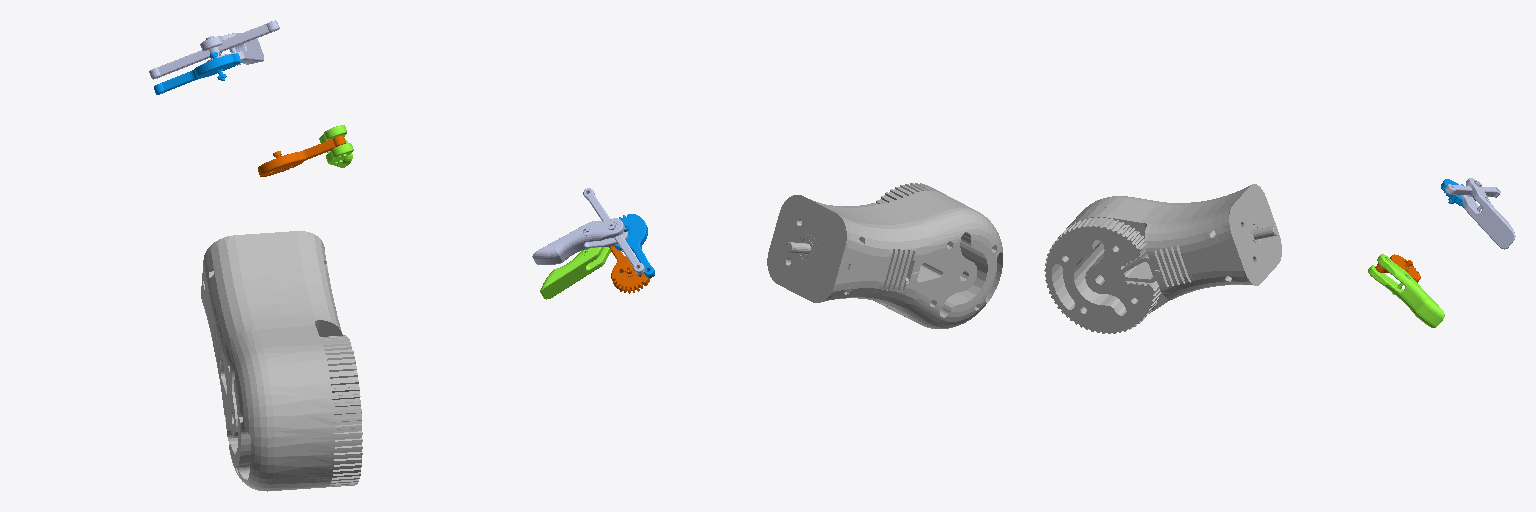
The robot description file, URDF, robot "moveo_urdf_5":
<robot
  name="moveo_urdf_5">
    <link
    name="base_link">
    <inertial>
      <origin
        xyz="0.034155 -0.20591 -0.049641"
        rpy="0 0 0" />
      <mass
        value="8.0643" />
      <inertia
        ixx="0.11291"
        ixy="0.00066071"
        ixz="-0.00030472"
        iyy="0.089946"
        iyz="0.011461"
        izz="0.19187" />
    </inertial>
    <visual>
      <origin
        xyz="0 0 0"
        rpy="0 0 0" />
      <geometry>
        <mesh
          filename="package://moveo_urdf_4/meshes/base_link.STL" />
      </geometry>
      <material
        name="">
        <color
          rgba="0.75294 0.75294 0.75294 1" />
      </material>
    </visual>
    <collision>
      <origin
        xyz="0 0 0"
        rpy="0 0 0" />
      <geometry>
        <mesh
          filename="package://moveo_urdf_4/meshes/base_link.STL" />
      </geometry>
    </collision>
  </link>
  <link
    name="Link_1">
    <inertial>
      <origin
        xyz="4.0186E-05 0.090634 0.00010221"
        rpy="0 0 0" />
      <mass
        value="4.2526" />
      <inertia
        ixx="0.0034071"
        ixy="8.9041E-06"
        ixz="1.179E-07"
        iyy="0.018642"
        iyz="-3.6544E-06"
        izz="0.021987" />
    </inertial>
    <visual>
      <origin
        xyz="0 0 0"
        rpy="0 0 0" />
      <geometry>
        <mesh
          filename="package://moveo_urdf_4/meshes/Link_1.STL" />
      </geometry>
      <material
        name="">
        <color
          rgba="0.75294 0.75294 0.75294 1" />
      </material>
    </visual>
    <collision>
      <origin
        xyz="0 0 0"
        rpy="0 0 0" />
      <geometry>
        <mesh
          filename="package://moveo_urdf_4/meshes/Link_1.STL" />
      </geometry>
    </collision>
  </link>
  <joint
    name="Joint_1"
    type="revolute">
    <origin
      xyz="0 -0.2425 0"
      rpy="1.5708 9.5417E-17 2.7766" />
    <parent
      link="base_link" />
    <child
      link="Link_1" />
    <axis
      xyz="0 1 0" />
    <limit
      lower="-1"
      upper="1"
      effort="5"
      velocity="1" />
  </joint>
  <link
    name="Link_2">
    <inertial>
      <origin
        xyz="2.2815E-05 0.0017616 -0.080002"
        rpy="0 0 0" />
      <mass
        value="1.9323" />
      <inertia
        ixx="0.012138"
        ixy="-3.5576E-06"
        ixz="-9.0632E-06"
        iyy="0.011445"
        iyz="0.00014273"
        izz="0.00070271" />
    </inertial>
    <visual>
      <origin
        xyz="0 0 0"
        rpy="0 0 0" />
      <geometry>
        <mesh
          filename="package://moveo_urdf_5/meshes/Link_2.STL" />
      </geometry>
      <material
        name="">
        <color
          rgba="0.75294 0.75294 0.75294 1" />
      </material>
    </visual>
    <collision>
      <origin
        xyz="0 0 0"
        rpy="0 0 0" />
      <geometry>
        <mesh
          filename="package://moveo_urdf_5/meshes/Link_2.STL" />
      </geometry>
    </collision>
  </link>
  <joint
    name="Joint_2"
    type="revolute">
    <origin
      xyz="0 0.18264 0"
      rpy="-3.1416 0.95134 1.5708" />
    <parent
      link="Link_1" />
    <child
      link="Link_2" />
    <axis
      xyz="0 -1 0" />
    <limit
      lower="-1"
      upper="1"
      effort="5"
      velocity="1" />
  </joint>
  <link
    name="Link_3">
    <inertial>
      <origin
        xyz="0.05095 -0.00039084 -0.00045591"
        rpy="0 0 0" />
      <mass
        value="1.1381" />
      <inertia
        ixx="0.00023572"
        ixy="-3.8425E-06"
        ixz="4.1286E-06"
        iyy="0.00029123"
        iyz="-1.0387E-07"
        izz="0.00052457" />
    </inertial>
    <visual>
      <origin
        xyz="0 0 0"
        rpy="0 0 0" />
      <geometry>
        <mesh
          filename="package://moveo_urdf_5/meshes/Link_3.STL" />
      </geometry>
      <material
        name="">
        <color
          rgba="0.75294 0.75294 0.75294 1" />
      </material>
    </visual>
    <collision>
      <origin
        xyz="0 0 0"
        rpy="0 0 0" />
      <geometry>
        <mesh
          filename="package://moveo_urdf_5/meshes/Link_3.STL" />
      </geometry>
    </collision>
  </link>
  <joint
    name="Joint_3"
    type="revolute">
    <origin
      xyz="0 0 -0.22112"
      rpy="-3.1416 0.98126 -3.1416" />
    <parent
      link="Link_2" />
    <child
      link="Link_3" />
    <axis
      xyz="0 -1 0" />
    <limit
      lower="-1"
      upper="1"
      effort="5"
      velocity="1" />
  </joint>
  <link
    name="Link_4">
    <inertial>
      <origin
        xyz="-0.0027417 0.0025097 0.012864"
        rpy="0 0 0" />
      <mass
        value="0.62964" />
      <inertia
        ixx="0.0001717"
        ixy="1.3446E-06"
        ixz="8.5164E-06"
        iyy="0.00010506"
        iyz="5.1412E-05"
        izz="7.8944E-05" />
    </inertial>
    <visual>
      <origin
        xyz="0 0 0"
        rpy="0 0 0" />
      <geometry>
        <mesh
          filename="package://moveo_urdf_5/meshes/Link_4.STL" />
      </geometry>
      <material
        name="">
        <color
          rgba="0.29412 0.29412 0.29412 1" />
      </material>
    </visual>
    <collision>
      <origin
        xyz="0 0 0"
        rpy="0 0 0" />
      <geometry>
        <mesh
          filename="package://moveo_urdf_5/meshes/Link_4.STL" />
      </geometry>
    </collision>
  </link>
  <joint
    name="Joint_4"
    type="revolute">
    <origin
      xyz="0.16988 -0.00099213 0"
      rpy="3.1416 -1.2279 1.5708" />
    <parent
      link="Link_3" />
    <child
      link="Link_4" />
    <axis
      xyz="0.010353 -0.99993 -0.0059382" />
    <limit
      lower="-1"
      upper="1"
      effort="5"
      velocity="1" />
  </joint>
  <link
    name="Link_5">
    <inertial>
      <origin
        xyz="-0.011366 0.00012239 0.0078967"
        rpy="0 0 0" />
      <mass
        value="0.19875" />
      <inertia
        ixx="6.2676E-05"
        ixy="4.2551E-06"
        ixz="4.0215E-05"
        iyy="9.7792E-05"
        iyz="8.5888E-07"
        izz="9.5807E-05" />
    </inertial>
    <visual>
      <origin
        xyz="0 0 0"
        rpy="0 0 0" />
      <geometry>
        <mesh
          filename="package://moveo_urdf_5/meshes/Link_5.STL" />
      </geometry>
      <material
        name="">
        <color
          rgba="0.79216 0.81961 0.93333 1" />
      </material>
    </visual>
    <collision>
      <origin
        xyz="0 0 0"
        rpy="0 0 0" />
      <geometry>
        <mesh
          filename="package://moveo_urdf_5/meshes/Link_5.STL" />
      </geometry>
    </collision>
  </link>
  <joint
    name="Joint_5"
    type="revolute">
    <origin
      xyz="-0.0021346 0.053041 0.0016936"
      rpy="-1.5639 -0.091135 -0.00062919" />
    <parent
      link="Link_4" />
    <child
      link="Link_5" />
    <axis
      xyz="0 1 0" />
    <limit
      lower="-1"
      upper="1"
      effort="5"
      velocity="1" />
  </joint>
    <link
    name="Gripper_Servo_Gear">
    <inertial>
      <origin
        xyz="-0.0063957 -0.0033021 -0.00082714"
        rpy="0 0 0" />
      <mass
        value="0.0048997" />
      <inertia
        ixx="2.0097E-09"
        ixy="-3.0673E-09"
        ixz="-6.3297E-10"
        iyy="4.9761E-09"
        iyz="-3.9668E-10"
        izz="6.8221E-09" />
    </inertial>
    <visual>
      <origin
        xyz="0 0 0"
        rpy="0 0 0" />
      <geometry>
        <mesh
          filename="package://moveo_urdf_5/meshes/Gripper_Servo_Gear.STL" />
      </geometry>
      <material
        name="">
        <color
          rgba="0.9098 0.44314 0.031373 1" />
      </material>
    </visual>
    <collision>
      <origin
        xyz="0 0 0"
        rpy="0 0 0" />
      <geometry>
        <mesh
          filename="package://moveo_urdf_5/meshes/Gripper_Servo_Gear.STL" />
      </geometry>
    </collision>
  </link>
  <joint
    name="Gripper_Servo_Gear_Joint"
    type="revolute">
    <origin
      xyz="-0.05013 0.01413 0.041516"
      rpy="0.9321 0.032705 -1.5268" />
    <parent
      link="Link_5" />
    <child
      link="Gripper_Servo_Gear" />
    <axis
      xyz="0 1 0" />
    <limit
      lower="0"
      upper="1.5707"
      effort="5"
      velocity="1" />
  </joint>
  <link
    name="Tip_Gripper_Servo">
    <inertial>
      <origin
        xyz="0.028047 -0.000564 0.0049632"
        rpy="0 0 0" />
      <mass
        value="0.010676" />
      <inertia
        ixx="8.9609E-09"
        ixy="6.3808E-09"
        ixz="-2.6788E-08"
        iyy="1.7457E-07"
        iyz="7.7239E-10"
        izz="1.7361E-07" />
    </inertial>
    <visual>
      <origin
        xyz="0 0 0"
        rpy="0 0 0" />
      <geometry>
        <mesh
          filename="package://moveo_urdf_5/meshes/Tip_Gripper_Servo.STL" />
      </geometry>
      <material
        name="">
        <color
          rgba="0.6 1 0.27843 1" />
      </material>
    </visual>
    <collision>
      <origin
        xyz="0 0 0"
        rpy="0 0 0" />
      <geometry>
        <mesh
          filename="package://moveo_urdf_5/meshes/Tip_Gripper_Servo.STL" />
      </geometry>
    </collision>
  </link>
  <joint
    name="Tip_Gripper_Servo_Joint"
    type="revolute">
    <origin
      xyz="-0.039906 -0.004 -0.0027473"
      rpy="-3.1416 -1.5569 -2.0392E-12" />
    <parent
      link="Gripper_Servo_Gear" />
    <child
      link="Tip_Gripper_Servo" />
    <axis
      xyz="0 1 0" />
    <limit
      lower="0"
      upper="1.3"
      effort="5"
      velocity="1" /> 
  </joint>
  <link
    name="Gripper_Idol_Gear">
    <inertial>
      <origin
        xyz="-0.020173 -0.027941 -0.043405"
        rpy="0 0 0" />
      <mass
        value="0.0051273" />
      <inertia
        ixx="2.3661E-09"
        ixy="1.1076E-09"
        ixz="5.5775E-10"
        iyy="8.8855E-09"
        iyz="-6.98E-11"
        izz="1.1181E-08" />
    </inertial>
    <visual>
      <origin
        xyz="0 0 0"
        rpy="0 0 0" />
      <geometry>
        <mesh
          filename="package://moveo_urdf_4/meshes/Gripper_Idol_Gear.STL" />
      </geometry>
      <material
        name="">
        <color
          rgba="0.058824 0.64706 1 1" />
      </material>
    </visual>
    <collision>
      <origin
        xyz="0 0 0"
        rpy="0 0 0" />
      <geometry>
        <mesh
          filename="package://moveo_urdf_4/meshes/Gripper_Idol_Gear.STL" />
      </geometry>
    </collision>
  </link>
  <joint
    name="Gripper_Idol_Gear_Joint"
    type="revolute">
    <origin
      xyz="0 0 0.088169"
      rpy="2.2206 -1.7526E-12 1.5708" />
    <parent
      link="Link_5" />
    <child
      link="Gripper_Idol_Gear" />
    <axis
      xyz="0 1 0" />
    <limit
      lower="-1"
      upper="1"
      effort="5"
      velocity="1" />
  </joint>
  <link
    name="Tip_Gripper_Idol">
    <inertial>
      <origin
        xyz="0.07316 -0.036799 0.032473"
        rpy="0 0 0" />
      <mass
        value="0.010676" />
      <inertia
        ixx="1.6298E-07"
        ixy="-2.1098E-09"
        ixz="-4.8536E-08"
        iyy="1.7457E-07"
        iyz="-6.0724E-09"
        izz="1.9597E-08" />
    </inertial>
    <visual>
      <origin
        xyz="0 0 0"
        rpy="0 0 0" />
      <geometry>
        <mesh
          filename="package://moveo_urdf_4/meshes/Tip_Gripper_Idol.STL" />
      </geometry>
      <material
        name="">
        <color
          rgba="0.79216 0.81961 0.93333 1" />
      </material>
    </visual>
    <collision>
      <origin
        xyz="0 0 0"
        rpy="0 0 0" />
      <geometry>
        <mesh
          filename="package://moveo_urdf_4/meshes/Tip_Gripper_Idol.STL" />
      </geometry>
    </collision>
  </link>
  <joint
    name="Tip_Gripper_Idol_Joint"
    type="fixed">
    <origin
      xyz="0 0.0088579 -0.0067312"
      rpy="-3.1416 0.5236 -3.1416" />
    <parent
      link="Gripper_Idol_Gear" />
    <child
      link="Tip_Gripper_Idol" />
    <axis
      xyz="0 0 0" />
  </joint>
  <link
    name="Pivot_Arm_Gripper_Servo">
    <inertial>
      <origin
        xyz="-0.0246088378758516 -0.039491188677419 0.0548184657290344"
        rpy="0 0 0" />
      <mass
        value="0.00185970821819588" />
      <inertia
        ixx="2.3350521316943E-09"
        ixy="3.15938078443685E-09"
        ixz="-1.08844692176622E-09"
        iyy="7.82558758772591E-08"
        iyz="4.39516056818752E-11"
        izz="8.05606441237718E-08" />
    </inertial>
    <visual>
      <origin
        xyz="0 0 0"
        rpy="0 0 0" />
      <geometry>
        <mesh
          filename="package://moveo_urdf_4/meshes/Pivot_Arm_Gripper_Servo.STL" />
      </geometry>
      <material
        name="">
        <color
          rgba="0.792156862745098 0.819607843137255 0.933333333333333 1" />
      </material>
    </visual>
    <collision>
      <origin
        xyz="0 0 0"
        rpy="0 0 0" />
      <geometry>
        <mesh
          filename="package://moveo_urdf_4/meshes/Pivot_Arm_Gripper_Servo.STL" />
      </geometry>
    </collision>
  </link>
  <joint
    name="Pivot_Arm_Gripper_Servo_Joint"
    type="revolute">
    <origin
      xyz="0 0 0.1026"
      rpy="0.92098 1.754E-12 -1.5708" />
    <parent
      link="Link_5" />
    <child
      link="Pivot_Arm_Gripper_Servo" />
    <axis
      xyz="0 1 0" />
    <limit
      lower="-1"
      upper="1"
      effort="5"
      velocity="1" />
  </joint>
  <link
    name="Pivot_Arm_Gripper_Idol">
    <inertial>
      <origin
        xyz="0.024736 -0.038928 0.055435"
        rpy="0 0 0" />
      <mass
        value="0.0018597" />
      <inertia
        ixx="2.3203E-09"
        ixy="-3.1597E-09"
        ixz="1.7754E-10"
        iyy="7.8256E-08"
        iyz="7.1682E-12"
        izz="8.0575E-08" />
    </inertial>
    <visual>
      <origin
        xyz="0 0 0"
        rpy="0 0 0" />
      <geometry>
        <mesh
          filename="package://moveo_urdf_4/meshes/Pivot_Arm_Gripper_Idol.STL" />
      </geometry>
      <material
        name="">
        <color
          rgba="0.79216 0.81961 0.93333 1" />
      </material>
    </visual>
    <collision>
      <origin
        xyz="0 0 0"
        rpy="0 0 0" />
      <geometry>
        <mesh
          filename="package://moveo_urdf_4/meshes/Pivot_Arm_Gripper_Idol.STL" />
      </geometry>
    </collision>
  </link>
  <joint
    name="Pivot_Arm_Gripper_Idol_Joint"
    type="revolute">
    <origin
      xyz="0 0 0.10189"
      rpy="0.92098 -0.0013727 -1.5726" />
    <parent
      link="Link_5" />
    <child
      link="Pivot_Arm_Gripper_Idol" />
    <axis
      xyz="0 1 0" />
    <limit
      lower="-1"
      upper="1"
      effort="5"
      velocity="1" />
  </joint>

</robot>

--- What the picture shows (computed from the rendered views, not written in the file) ---
The picture shows the robot from 3 angles, left to right: view 1: azimuth 30°, elevation 25°; view 2: azimuth 150°, elevation 25°; view 3: azimuth 270°, elevation 25°; orthographic projection.
Model moveo_urdf_5 with 12 links and 11 joints (10 revolute, 1 fixed), rooted at base_link, posed all joints at 0.
Links seen in each view (by area): view 1: Link_3, Gripper_Idol_Gear, Gripper_Servo_Gear, Tip_Gripper_Idol, Tip_Gripper_Servo, Pivot_Arm_Gripper_Idol, Pivot_Arm_Gripper_Servo; view 2: Link_3, Tip_Gripper_Idol, Tip_Gripper_Servo, Gripper_Idol_Gear, Gripper_Servo_Gear; view 3: Link_3, Tip_Gripper_Servo, Tip_Gripper_Idol.
Link boxes in pixels (left/top/right/bottom): Link_3: left=201, top=231, right=362, bottom=491; Gripper_Idol_Gear: left=154, top=52, right=240, bottom=94; Gripper_Servo_Gear: left=258, top=136, right=345, bottom=176; Tip_Gripper_Idol: left=200, top=33, right=263, bottom=65; Tip_Gripper_Servo: left=319, top=125, right=353, bottom=167; Pivot_Arm_Gripper_Idol: left=149, top=37, right=221, bottom=79; Pivot_Arm_Gripper_Servo: left=206, top=20, right=279, bottom=53; Link_3: left=767, top=183, right=1002, bottom=328; Tip_Gripper_Idol: left=532, top=218, right=627, bottom=264; Tip_Gripper_Servo: left=540, top=247, right=611, bottom=299; Gripper_Idol_Gear: left=613, top=214, right=654, bottom=277; Gripper_Servo_Gear: left=609, top=246, right=650, bottom=293; Link_3: left=1044, top=184, right=1281, bottom=333; Tip_Gripper_Servo: left=1368, top=254, right=1444, bottom=327; Tip_Gripper_Idol: left=1460, top=178, right=1515, bottom=249.
Bounding box of the posed robot: 0.233 × 0.3779 × 0.181 m (x, y, z).
7 mesh visuals loaded from 12 distinct referenced files (7 binary STL); not drawn: 5 (reference not matched to a file when rendering).